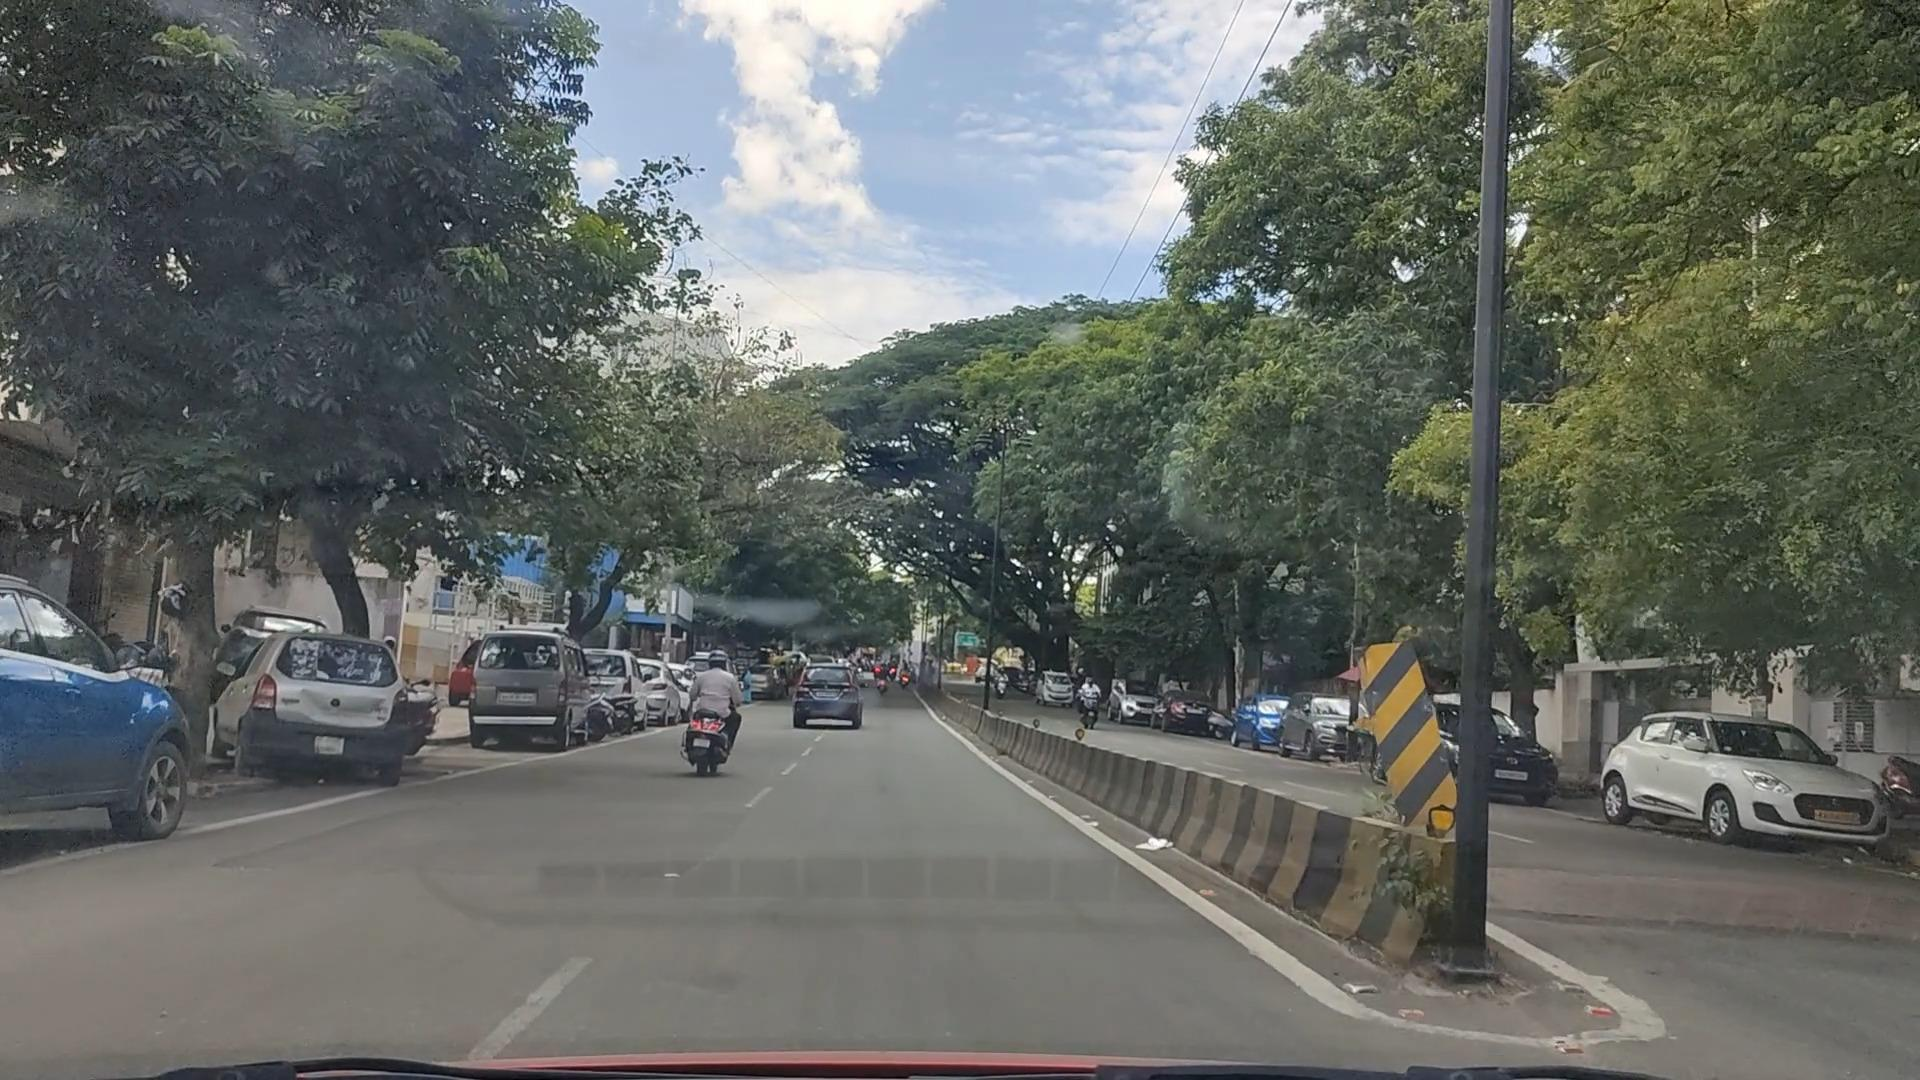LMV: (251, 638, 411, 774), (686, 647, 745, 770)
